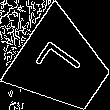L_SE: (34, 39, 91, 93)
